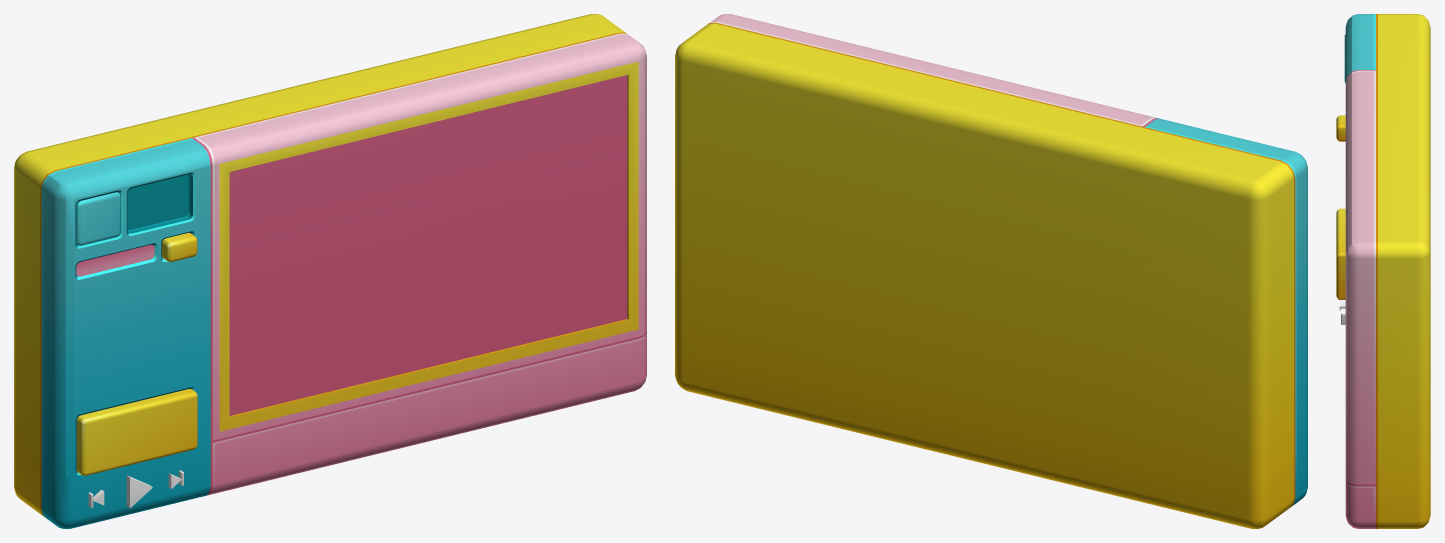
File: CassettePlayer_V3.fbx
3 views of the same model, side by side, from view 1: azimuth 30°, elevation 25°; view 2: azimuth 150°, elevation 25°; view 3: azimuth 270°, elevation 25° (orthographic). The views are drawn at different scales.
Visible parts, largest first — view 1: Cassette_Lid, Walkman_Base, Button_Instrument, Button_Settings, Button_Eject; view 2: Walkman_Base, Cassette_Lid; view 3: Walkman_Base, Cassette_Lid, Button_Instrument, Button_Eject.
Part boxes in pixels (x1,y1,x2,y2): Cassette_Lid: (194,33,646,440); Walkman_Base: (14,14,646,528); Button_Instrument: (76,389,197,475); Button_Settings: (76,192,120,245); Button_Eject: (161,233,197,261); Walkman_Base: (675,22,1307,528); Cassette_Lid: (710,14,1156,126); Walkman_Base: (1345,14,1430,528); Cassette_Lid: (1345,70,1375,484); Button_Instrument: (1336,208,1345,299); Button_Eject: (1336,115,1345,141).
Size of the model in its own units: 14.59 by 8.21 by 2.44.
